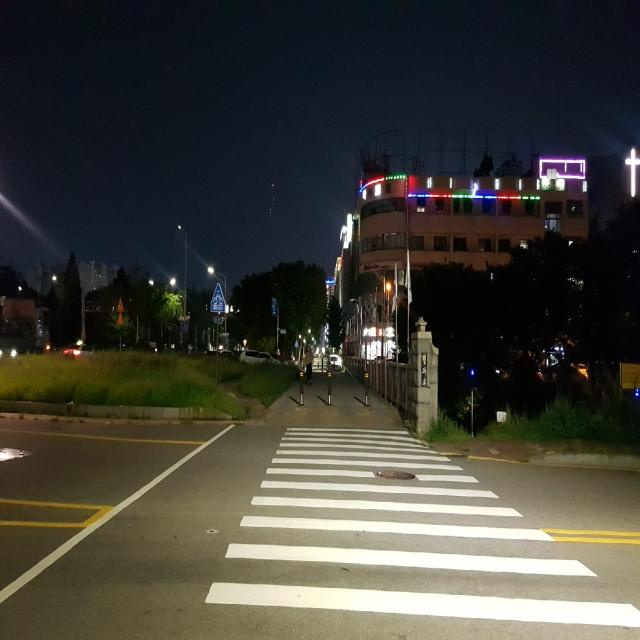횡단보도: (204, 425, 640, 630)
